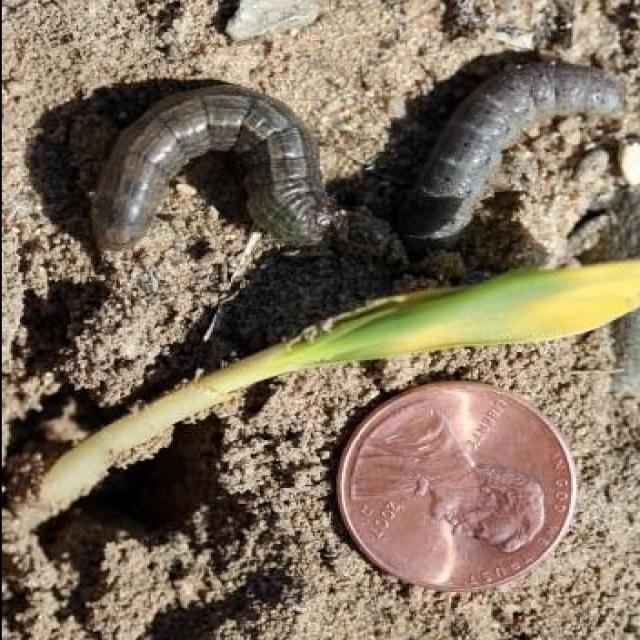black cutworm: (98, 75, 355, 302), (385, 61, 632, 261)
